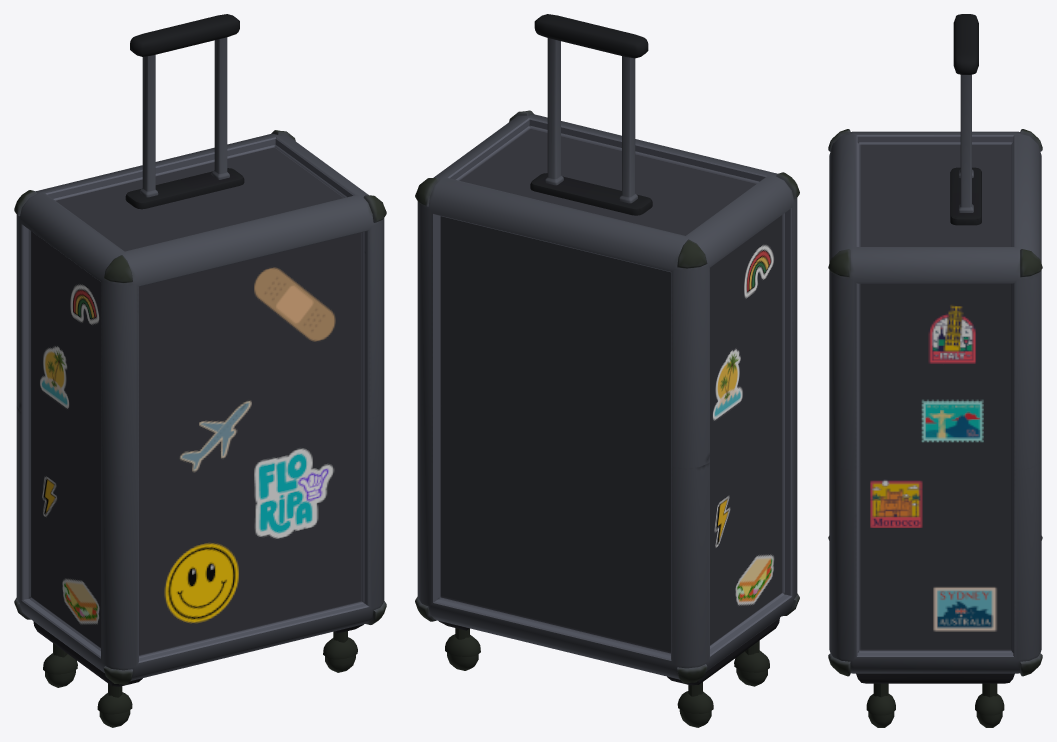
File: Mala.fbx
The picture shows the model from 3 angles, left to right: view 1: azimuth 30°, elevation 25°; view 2: azimuth 150°, elevation 25°; view 3: azimuth 270°, elevation 25°; orthographic projection. The views are drawn at different scales.
Parts seen in each view (by area): view 1: Mala; view 2: Mala; view 3: Mala.
Boxes of the visible parts, x1,y1,x2,y2 form: Mala: (14,14,386,727); Mala: (415,14,799,727); Mala: (828,14,1042,727).
Bounding box in the file's own units: 60.24 × 131 × 40.22.
